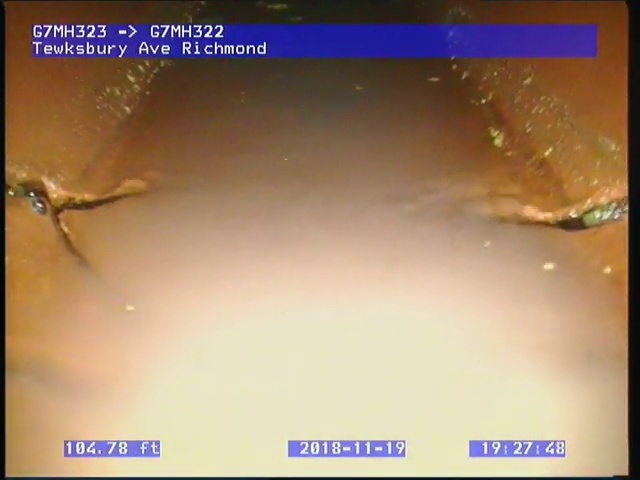crack: (7, 171, 158, 271), (506, 194, 627, 233)
